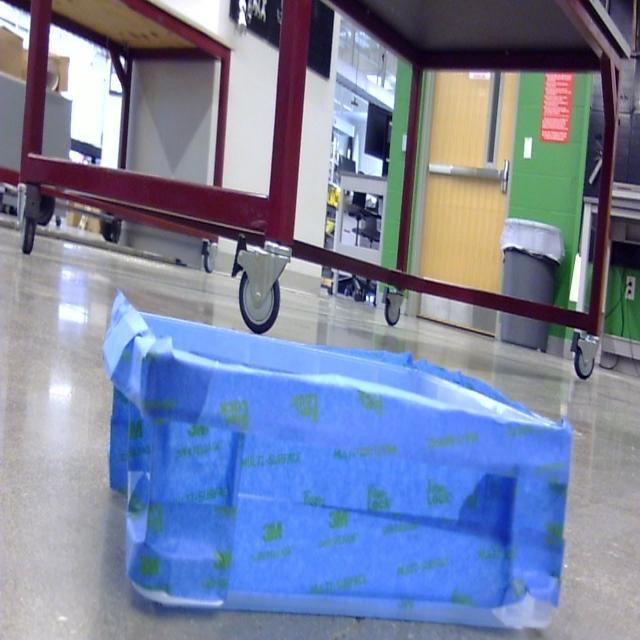bucket: (101, 293, 574, 636)
